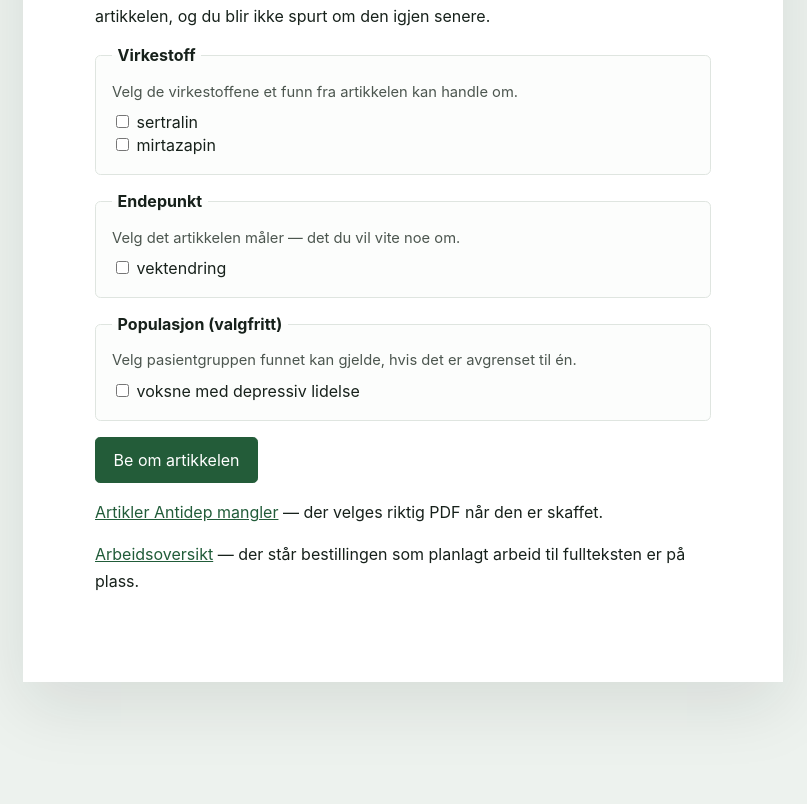
bestillingen av en artikkel Antidep mangler › sier hva som mangler før den sender noe som uansett ville blitt avvist
(page scrolled)
Click the button "Be om artikkelen": (177,460) [95,437,258,483]
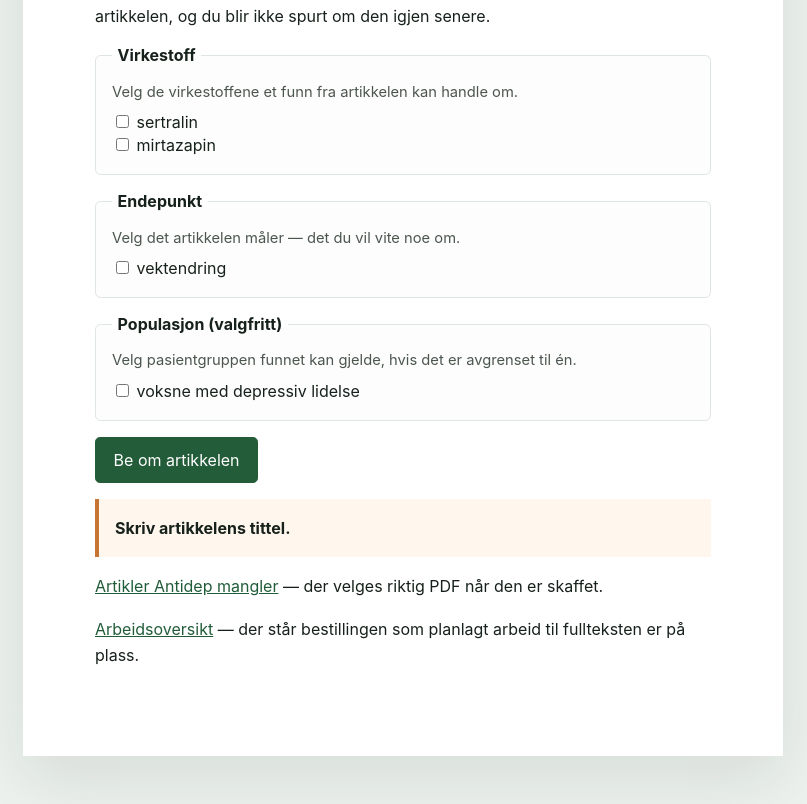
expect the text "Skriv artikkelens tittel." is shown: met, box [95,499,711,557]
